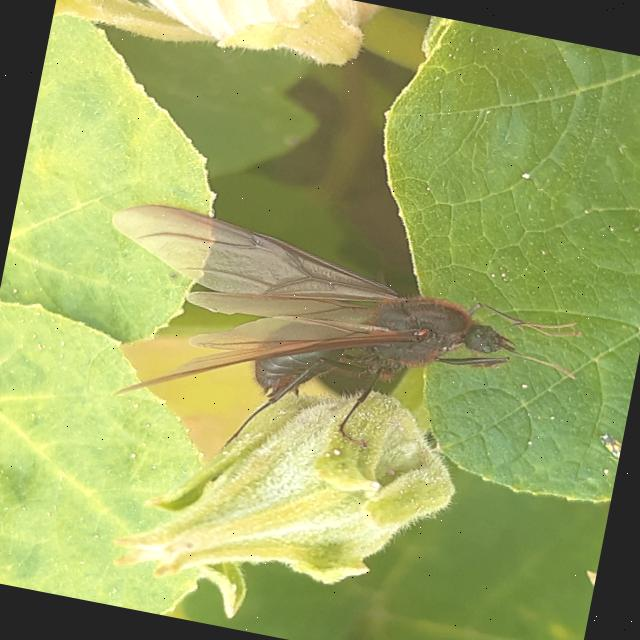Alive-Male-Alate: (72, 195, 593, 512)
